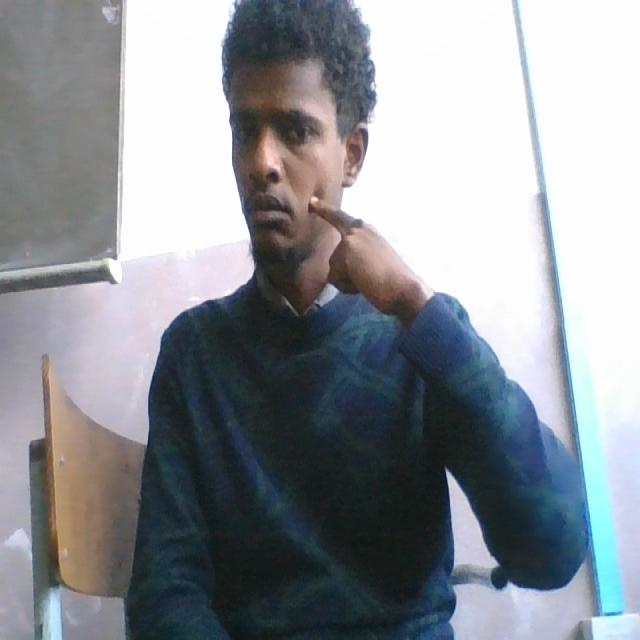enkuan_dehna_metachu: (236, 183, 400, 303)
